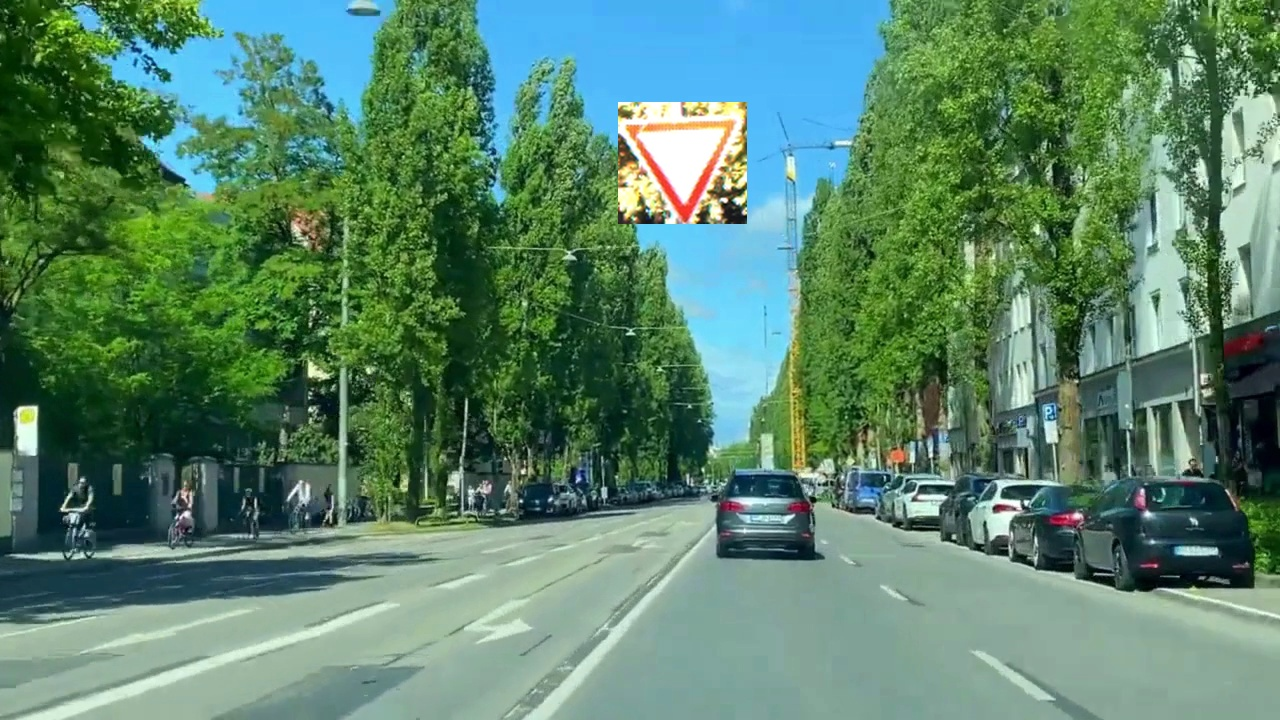Yield: (618, 102, 747, 224)
